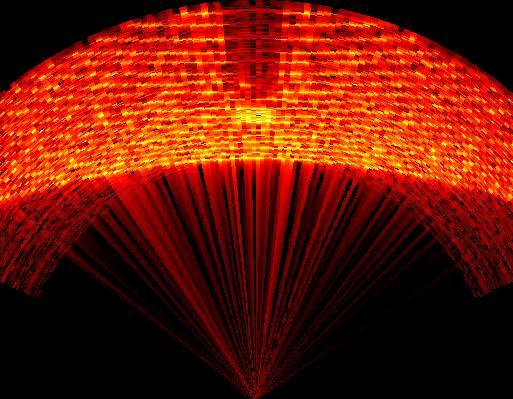box_crate: (220, 0, 282, 92)
